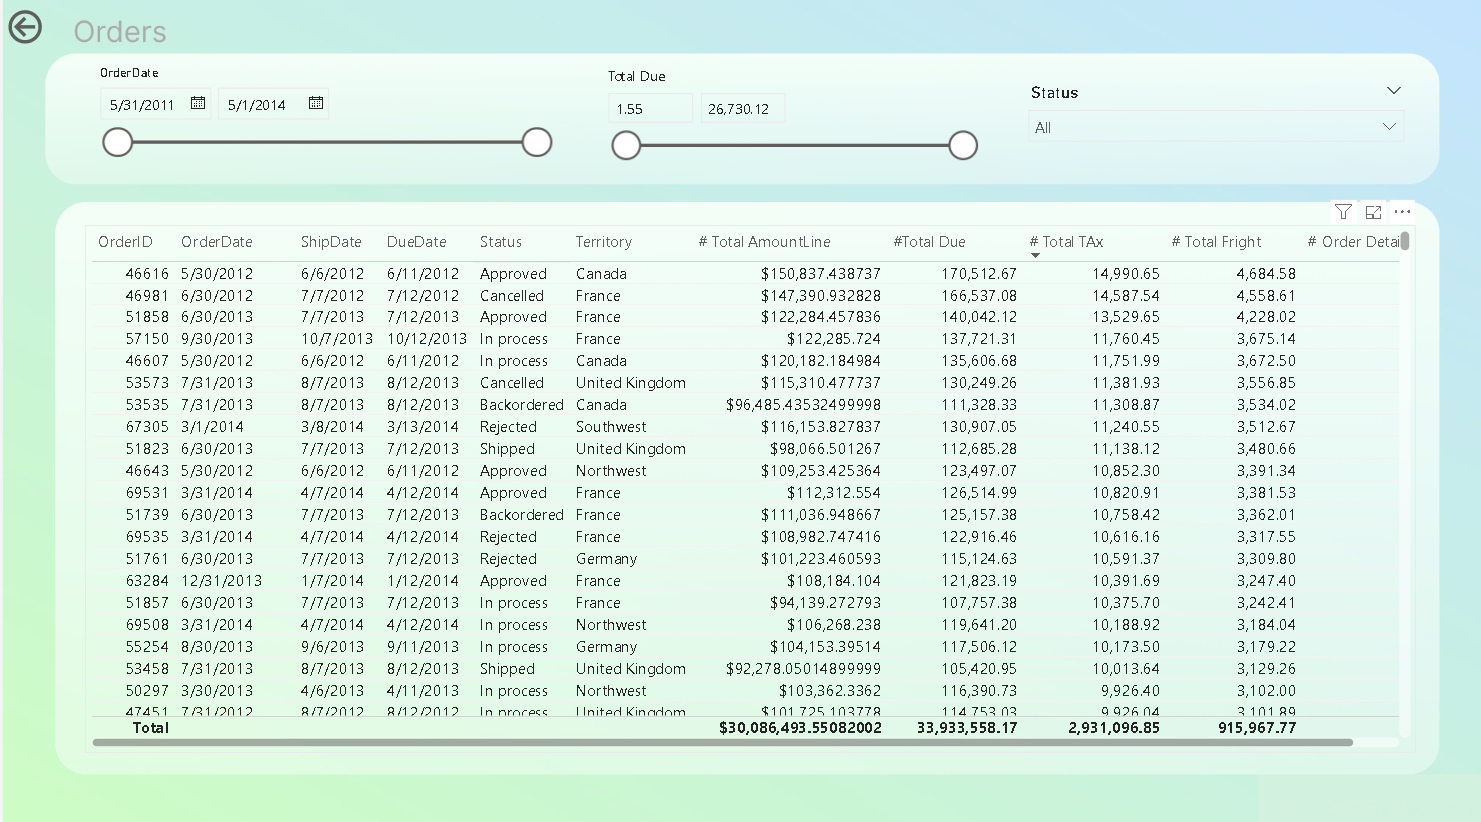

The dashboard page shown, as its layout file describes it:
{"tool":"powerbi","page":{"name":"Orders","canvas":[1280,720],"ordinal":1},"visuals":[{"type":"tableEx","fields":{"Values":["Sales.OrderID","Sales.OrderDate","Sales.ShipDate","Sales.DueDate","Sales.Status","Sales.Territory","Dax Measure.# Total AmountLine","Dax Measure.#Total Due","Dax Measure.# Total TAx","Dax Measure.# Total Fright","Dax Measure.# Order Details"]},"box":[71.2,198.8,1152.5,457.5],"z":0},{"type":"slicer","fields":{"Values":["Sales.OrderDate"]},"box":[71.2,55,412.5,103.8],"z":1000},{"type":"slicer","fields":{"Values":["Sales.Status"]},"box":[877.5,71.2,346.2,75],"z":2000},{"type":"slicer","fields":{"Values":["Sales.TotalDue"]},"box":[511.2,56.2,341.2,103.8],"z":3000},{"type":"actionButton","box":[0,3.8,38.8,47.5],"z":4000}]}

Visuals, with their boxes in screenshot pixels (x1, y1, x2, y2), scaled from the page's 1280x720 canvas onto the 1481x822 screenshot:
tableEx - Sales.OrderID x Sales.OrderDate: left=82, top=227, right=1416, bottom=749
slicer - Sales.OrderDate: left=82, top=63, right=560, bottom=181
slicer - Sales.Status: left=1015, top=81, right=1416, bottom=167
slicer - Sales.TotalDue: left=591, top=64, right=986, bottom=183
actionButton: left=0, top=4, right=45, bottom=59
